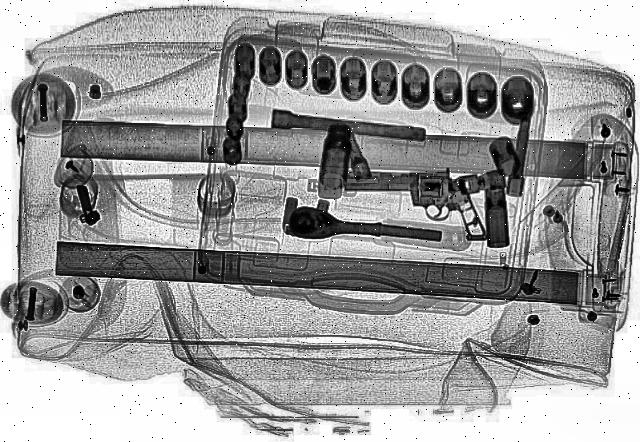Gun: (340, 168, 488, 244)
